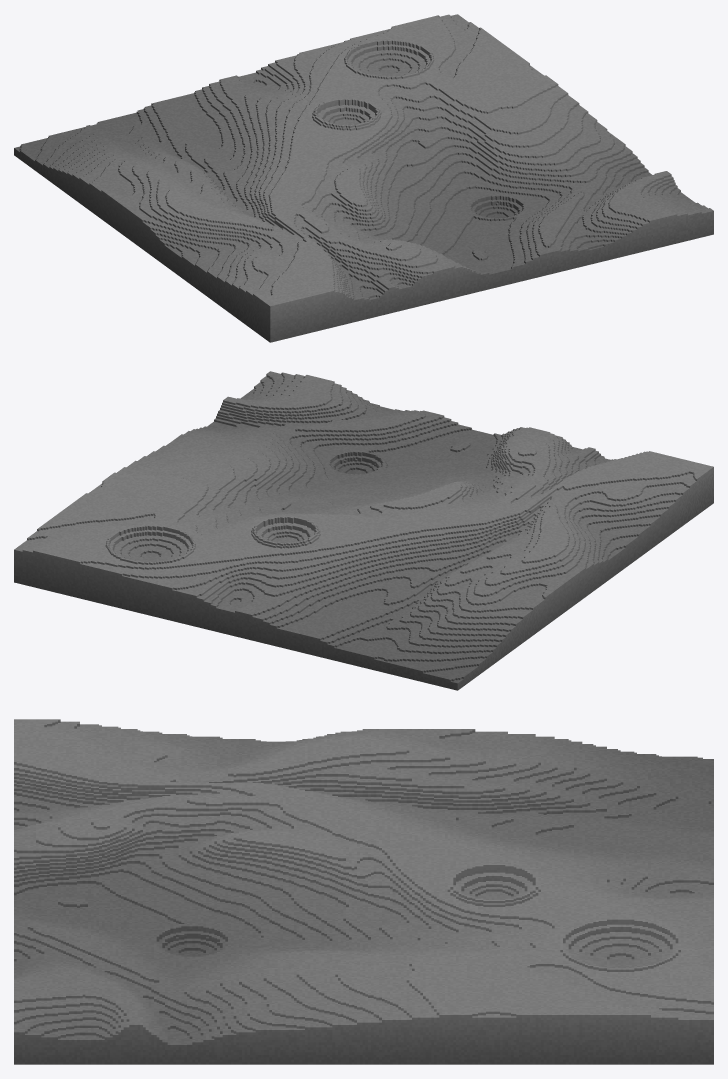
Rendered from LunaGrande-13.obj.
The picture shows the model from 3 angles, top to bottom: view 1: azimuth 30°, elevation 25°; view 2: azimuth 150°, elevation 25°; view 3: azimuth 270°, elevation 25°; orthographic projection. The views are drawn at different scales.
Bounding box in the file's own units: 25.5 × 2.2 × 25.5.
Materials: 1 (1 with a texture image).
